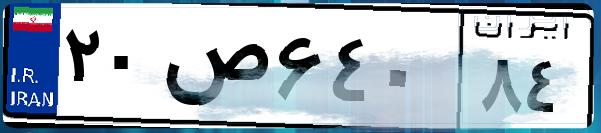0: (385, 28, 445, 110), (110, 28, 158, 98)
2: (57, 26, 110, 100)
4: (330, 28, 385, 110), (525, 38, 570, 115)
6: (270, 28, 330, 110)
8: (475, 38, 525, 113)
ص: (158, 20, 270, 120)
